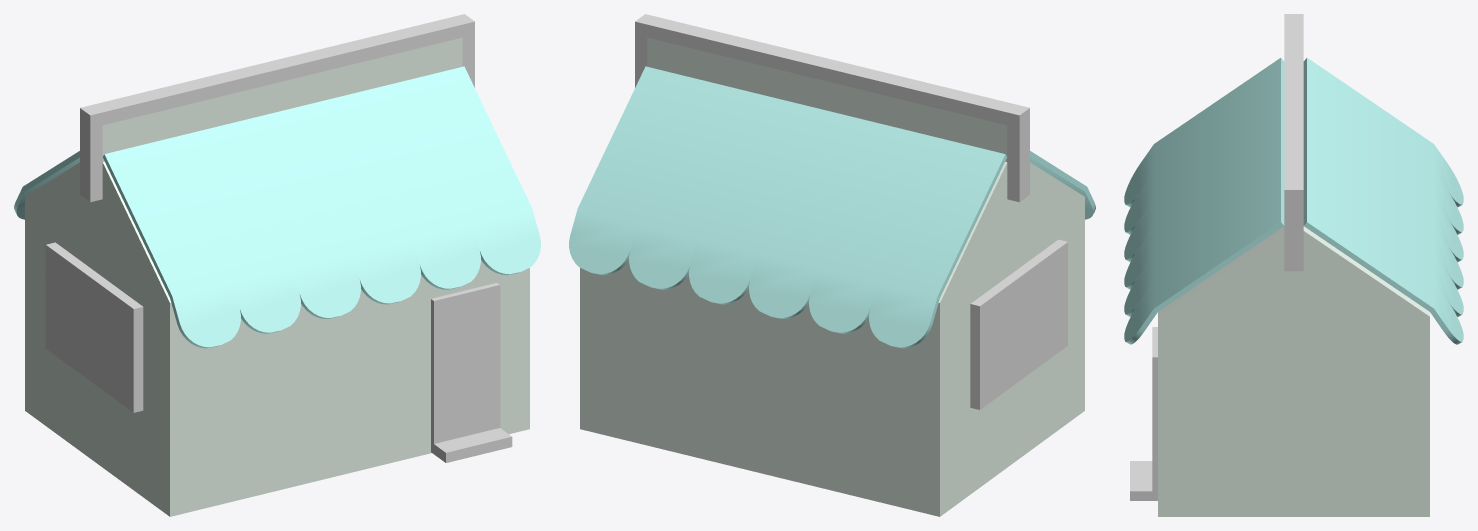
Rendered from shop.gltf.
The picture shows the model from 3 angles, left to right: view 1: azimuth 30°, elevation 25°; view 2: azimuth 150°, elevation 25°; view 3: azimuth 270°, elevation 25°; orthographic projection. The views are drawn at different scales.
Visible parts, largest first — view 1: Cube, Cube.002, Cube.001, Cube.006, Cube.005, Cube.004; view 2: Cube, Cube.002, Cube.001, Cube.006; view 3: Cube, Cube.002, Cube.001, Cube.005, Cube.004.
Part boxes in pixels (x1,y1,x2,y2): Cube: [25, 37, 529, 516]; Cube.002: [14, 66, 540, 348]; Cube.001: [80, 14, 474, 202]; Cube.006: [45, 242, 143, 412]; Cube.005: [431, 283, 500, 443]; Cube.004: [431, 428, 512, 462]; Cube: [580, 37, 1084, 516]; Cube.002: [569, 66, 1095, 348]; Cube.001: [635, 14, 1029, 202]; Cube.006: [970, 239, 1067, 409]; Cube: [1158, 226, 1429, 516]; Cube.002: [1124, 58, 1463, 344]; Cube.001: [1284, 14, 1303, 271]; Cube.005: [1152, 327, 1157, 491]; Cube.004: [1130, 461, 1157, 500].
Bounding box in the file's own units: 3.78 × 3.33 × 3.08.
Materials: 2 (2 with a texture image).
